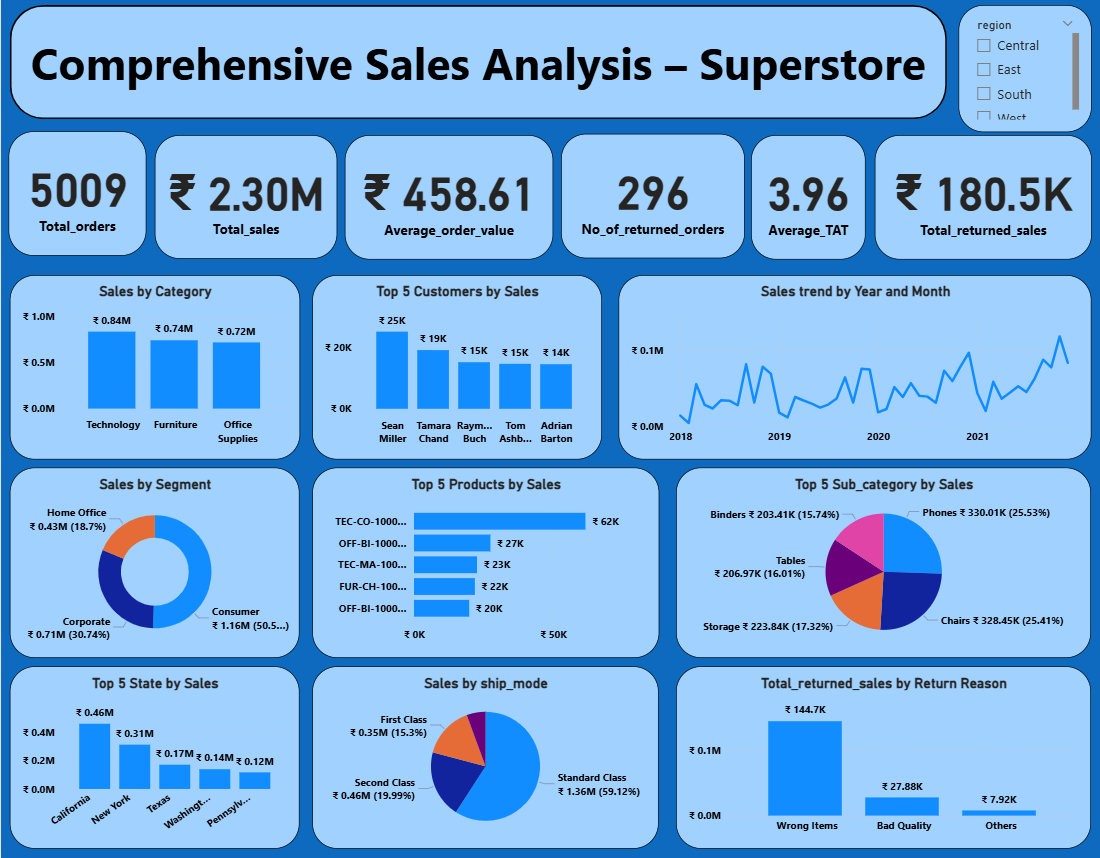

This screenshot's page, from the dashboard's own definition file:
{"tool":"powerbi","page":{"name":"Page 1","canvas":[1320,1040],"ordinal":0},"visuals":[{"type":"shape","box":[10.1,11.5,1125.4,137.1],"z":0},{"type":"card","fields":{"Values":["Superstore_orders.order_id"]},"box":[9.6,164.2,165.4,149.8],"z":1000},{"type":"card","fields":{"Values":["Superstore_orders.sales"]},"box":[184.6,167.8,219.3,148.6],"z":2000},{"type":"card","fields":{"Values":["Returns.Average_order_value"]},"box":[412.3,167.8,250.5,149.8],"z":3000},{"type":"card","fields":{"Values":["Returns.Order Id"]},"box":[672.4,166.6,220.5,149.8],"z":4000},{"type":"card","fields":{"Values":["Measures Table.Average_TAT"]},"box":[901.3,167.8,137.8,149.8],"z":5000},{"type":"card","fields":{"Values":["Measures Table.Total_returned_sales"]},"box":[1049.3,168.1,260.8,149.6],"z":6000},{"type":"columnChart","title":"Sales by Category","fields":{"Category":["Superstore_orders.category"],"Y":["Superstore_orders.sales"]},"box":[9.9,336.2,348.5,221.2],"z":7000},{"type":"columnChart","title":"Top 5 Customers by Sales","fields":{"Category":["Superstore_orders.customer_name"],"Y":["Superstore_orders.sales"]},"box":[374,335.9,347.6,221.5],"z":8000},{"type":"slicer","fields":{"Values":["Superstore_orders.region"]},"box":[1149.9,11.7,159.9,152.5],"z":9000},{"type":"donutChart","title":"Sales by Segment","fields":{"Category":["Superstore_orders.segment"],"Y":["Superstore_orders.sales"]},"box":[10.4,566.9,348.2,229.1],"z":10000},{"type":"lineChart","title":"Sales trend by Year and Month","fields":{"Y":["Superstore_orders.sales"],"Category":["Superstore_orders.order_date.Variation.Date Hierarchy.Year","Superstore_orders.order_date.Variation.Date Hierarchy.Month"]},"box":[740.9,336.3,568.4,221.7],"z":11000},{"type":"pieChart","title":"Top 5 Sub_category by Sales","fields":{"Category":["Superstore_orders.sub_category"],"Y":["Superstore_orders.sales"]},"box":[810.9,566.9,498.4,229.1],"z":12000},{"type":"clusteredBarChart","title":"Top 5 Products by Sales","fields":{"Category":["Superstore_orders.product_id"],"Y":["Superstore_orders.sales"]},"box":[373.4,566.9,416.6,229.1],"z":12001},{"type":"columnChart","title":"Top 5 State by Sales","fields":{"Category":["Superstore_orders.state"],"Y":["Superstore_orders.sales"]},"box":[10.5,806.1,348.3,219.2],"z":12002},{"type":"pieChart","title":"Sales by ship_mode","fields":{"Category":["Superstore_orders.ship_mode"],"Y":["Superstore_orders.sales"]},"box":[373.8,806.1,415.8,219.2],"z":12003},{"type":"columnChart","fields":{"Category":["Returns.Return Reason"],"Y":["Measures Table.Total_returned_sales"]},"box":[810.6,806.1,498.4,219.2],"z":12004}]}

Visuals, with their boxes in screenshot pixels (x1, y1, x2, y2), scaled from the page's 1320x1040 canvas onto the 1100x858 screenshot:
shape: Rect(8, 9, 946, 123)
card - Superstore_orders.order_id: Rect(8, 135, 146, 259)
card - Superstore_orders.sales: Rect(154, 138, 337, 261)
card - Returns.Average_order_value: Rect(344, 138, 552, 262)
card - Returns.Order Id: Rect(560, 137, 744, 261)
card - Measures Table.Average_TAT: Rect(751, 138, 866, 262)
card - Measures Table.Total_returned_sales: Rect(874, 139, 1092, 262)
"Sales by Category" columnChart: Rect(8, 277, 299, 460)
"Top 5 Customers by Sales" columnChart: Rect(312, 277, 601, 460)
slicer - Superstore_orders.region: Rect(958, 10, 1092, 135)
"Sales by Segment" donutChart: Rect(9, 468, 299, 657)
"Sales trend by Year and Month" lineChart: Rect(617, 277, 1091, 460)
"Top 5 Sub_category by Sales" pieChart: Rect(676, 468, 1091, 657)
"Top 5 Products by Sales" clusteredBarChart: Rect(311, 468, 658, 657)
"Top 5 State by Sales" columnChart: Rect(9, 665, 299, 846)
"Sales by ship_mode" pieChart: Rect(312, 665, 658, 846)
columnChart - Returns.Return Reason x Measures Table.Total_returned_sales: Rect(676, 665, 1091, 846)
